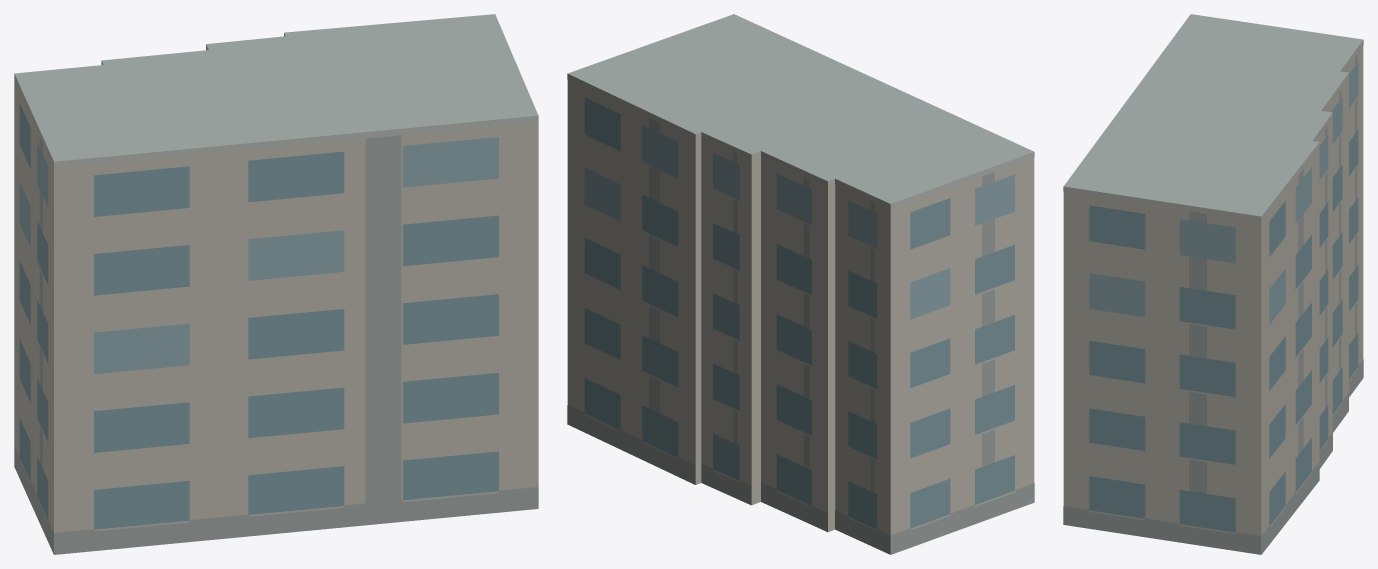
File: survey-upis-32894066.glb
The picture shows the model from 3 angles, left to right: view 1: azimuth 30°, elevation 25°; view 2: azimuth 150°, elevation 25°; view 3: azimuth 270°, elevation 25°; orthographic projection. The views are drawn at different scales.
Visible parts, largest first — view 1: survey-upis-32894066.tmp; view 2: survey-upis-32894066.tmp; view 3: survey-upis-32894066.tmp.
Part boxes in pixels (box(x1,y1,x2,y2)): survey-upis-32894066.tmp: box(14, 14, 538, 554); survey-upis-32894066.tmp: box(567, 14, 1034, 554); survey-upis-32894066.tmp: box(1063, 14, 1363, 554).
Bounding box in the file's own units: 18.37 × 14.3 × 11.5.
